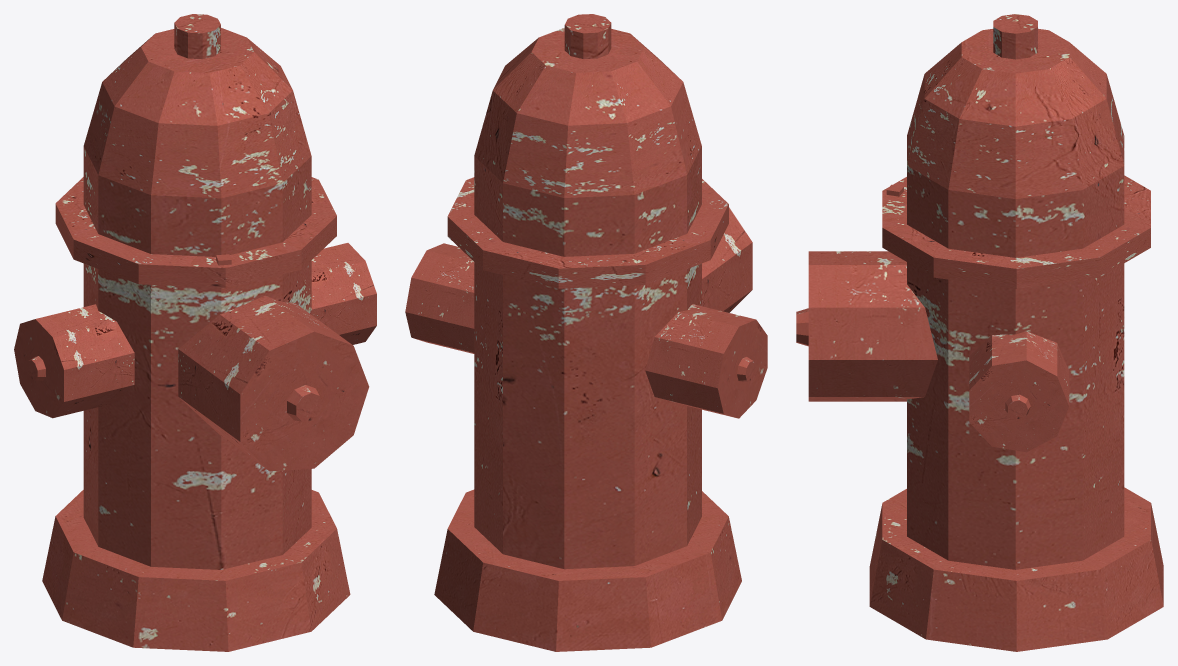
The model's file is fire hydrant.FBX.
3 renders of one model, left to right at view 1: azimuth 30°, elevation 25°; view 2: azimuth 150°, elevation 25°; view 3: azimuth 270°, elevation 25°, orthographic.
Parts seen in each view (by area): view 1: Cylinder002; view 2: Cylinder002; view 3: Cylinder002.
Part boxes in pixels (x1,y1,x2,y2): Cylinder002: (14, 14, 376, 651); Cylinder002: (405, 14, 767, 651); Cylinder002: (796, 14, 1163, 651).
Bounding box in the file's own units: 32.24 × 53.11 × 31.43.
Materials: 1 (1 with a texture image).
